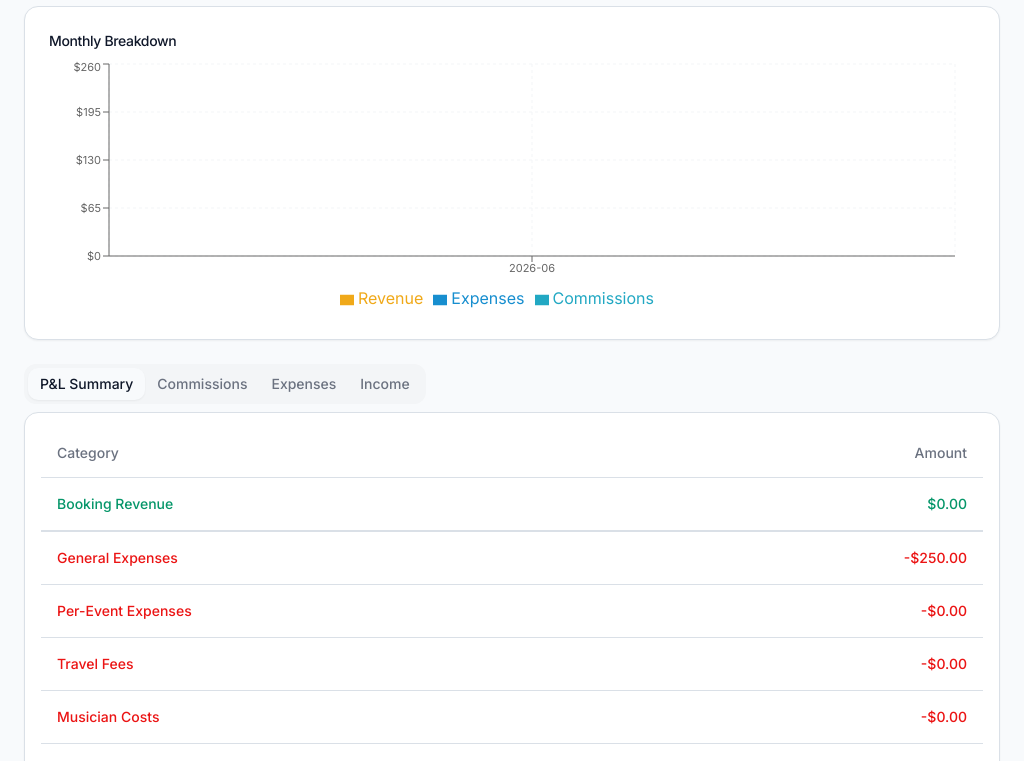
Test: Finance › deletes an expense
Later steps or results of the test are not shown.
(page scrolled)
Press the mouse on the tab "Expenses": (304, 384) [259, 368, 348, 400]
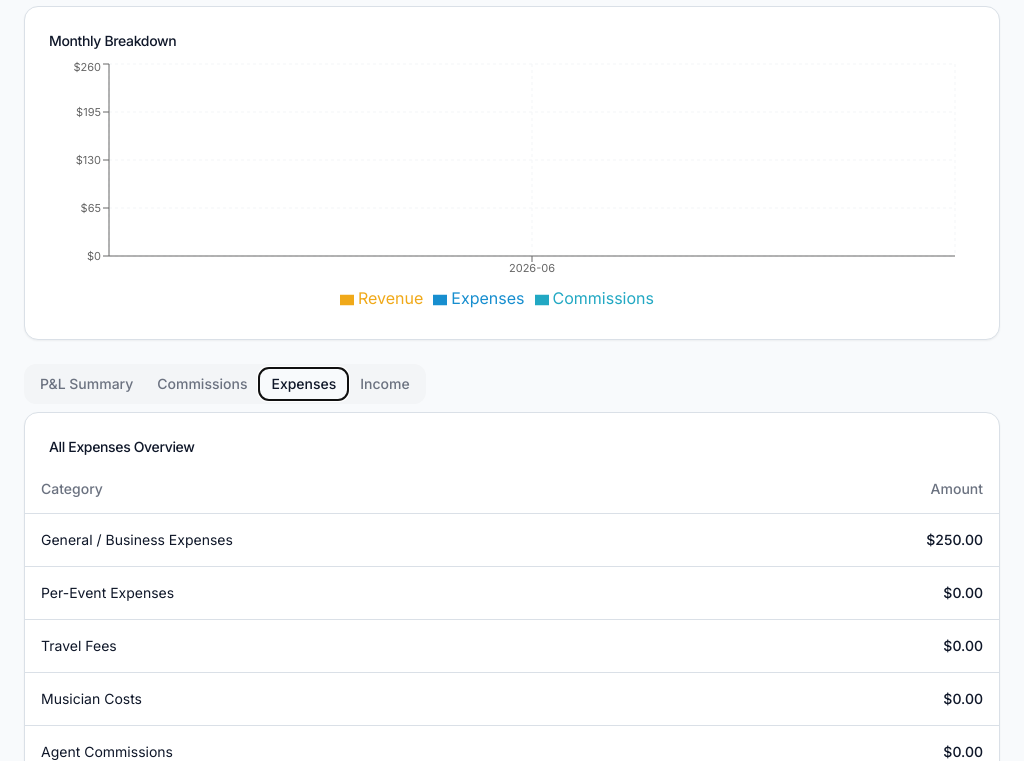
Click the tab "Expenses": (304, 384) [259, 368, 348, 400]
(page scrolled)
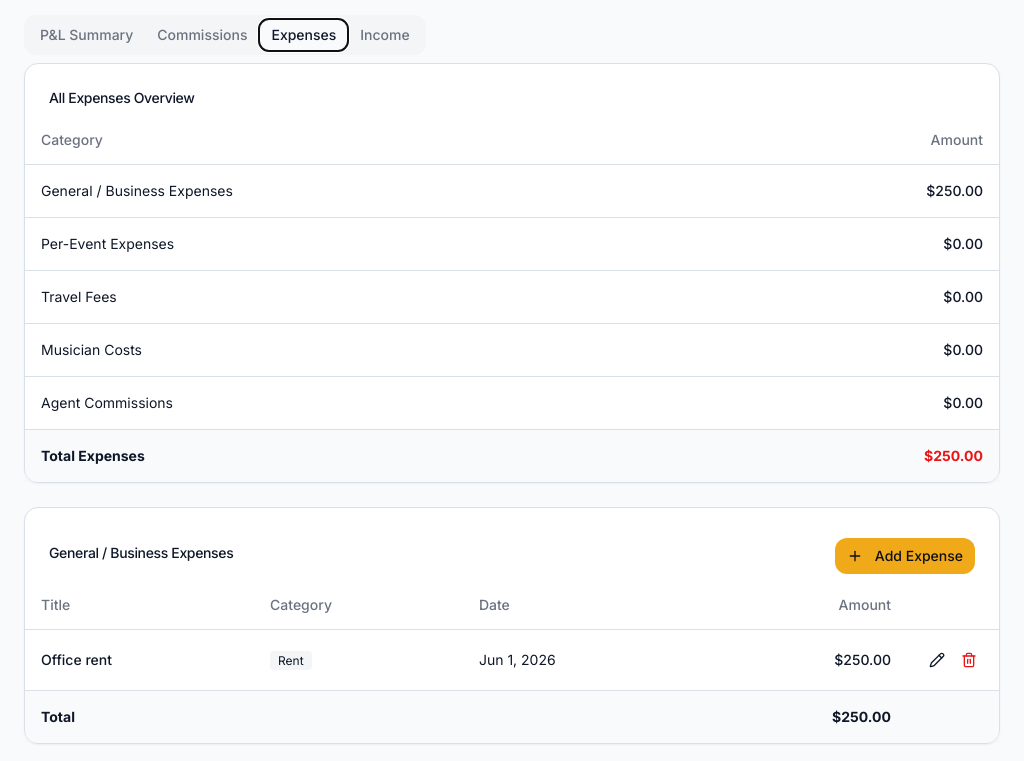
Now the text "Office rent" is shown, box [25, 630, 254, 690]
